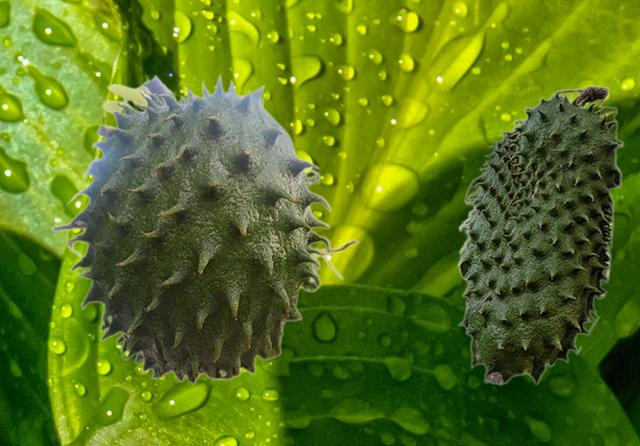guyabano: (50, 71, 359, 385), (456, 84, 623, 385)
